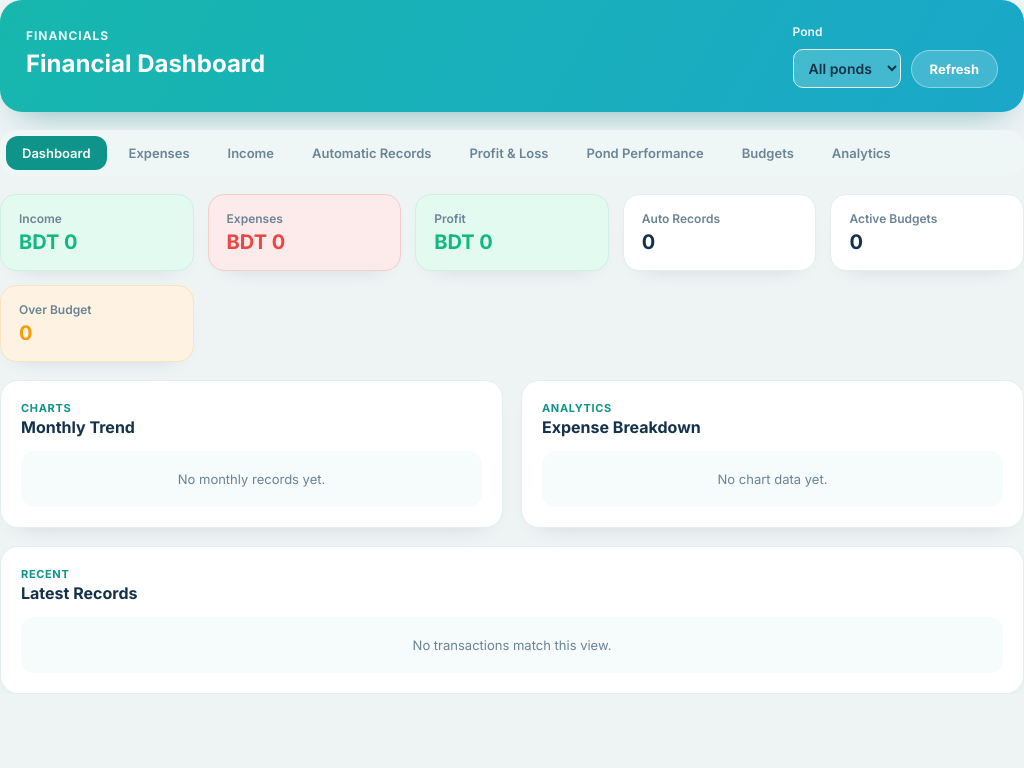
Test case: financials integration flow › displays a save error when the transaction service fails
The image size is (1024, 768).
Check: the heading "Financial Dashboard" is shown, box x1=26 y1=49 x2=265 y2=78
Click the button "Expenses": (159, 153) x1=113 y1=136 x2=206 y2=170
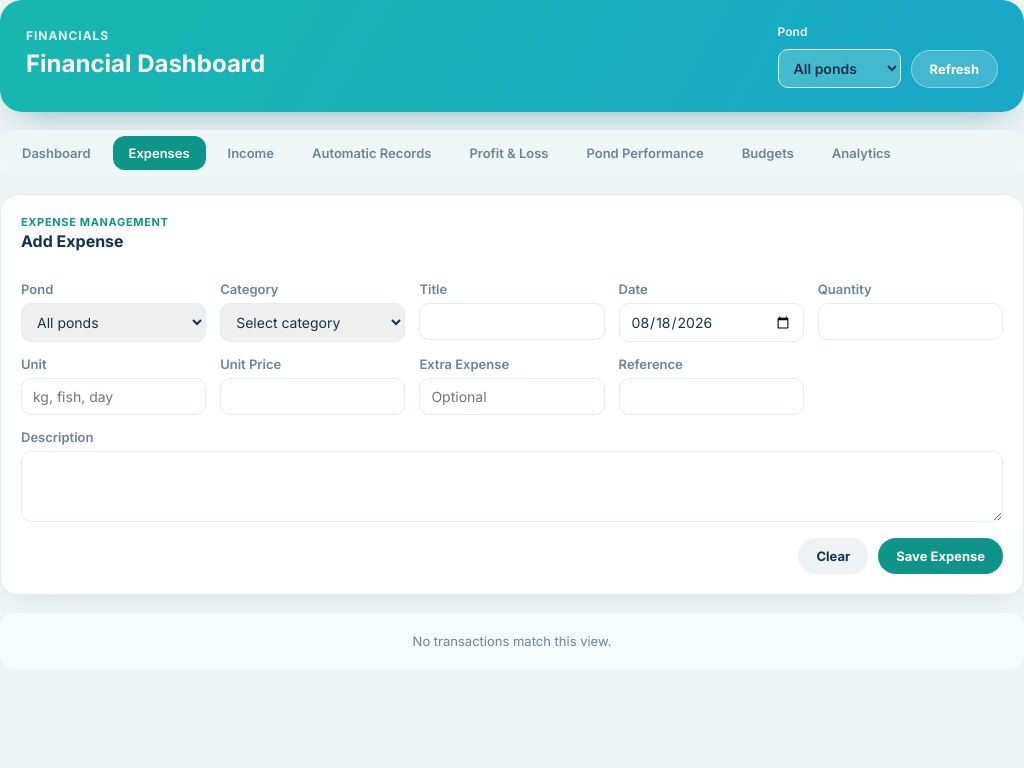
Select "Feed" in the dropdown labelled "Category": (313, 322) x1=220 y1=303 x2=405 y2=342
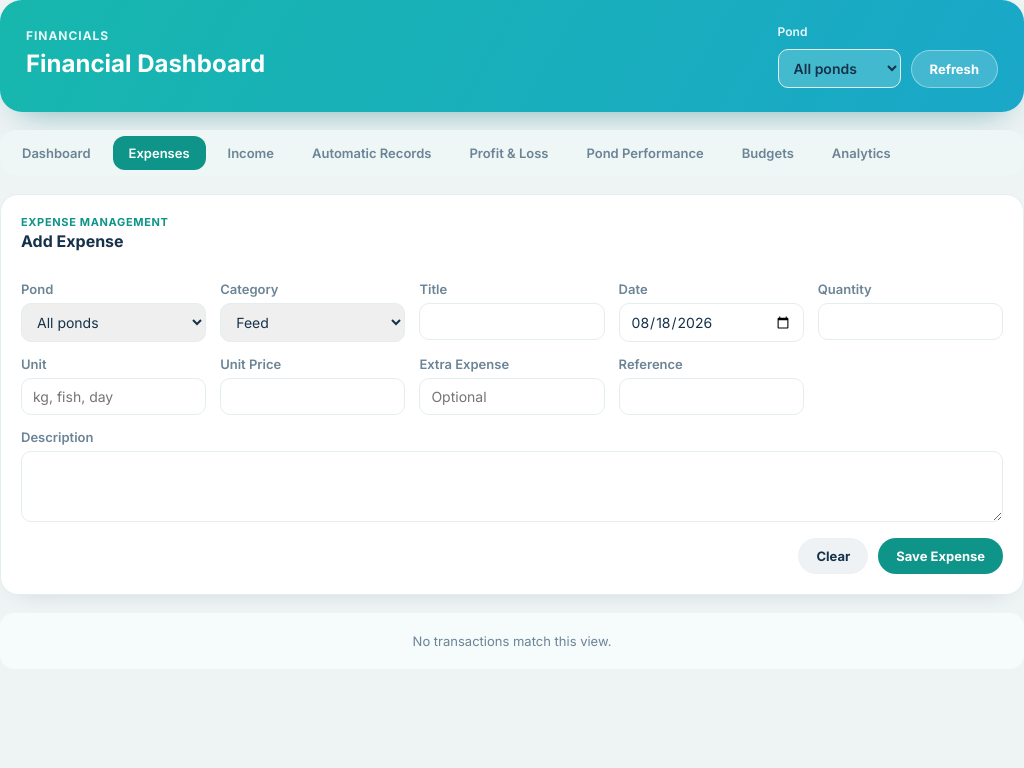
In the field labelled "Title": (512, 322) x1=419 y1=303 x2=605 y2=340, type "Failed purchase"
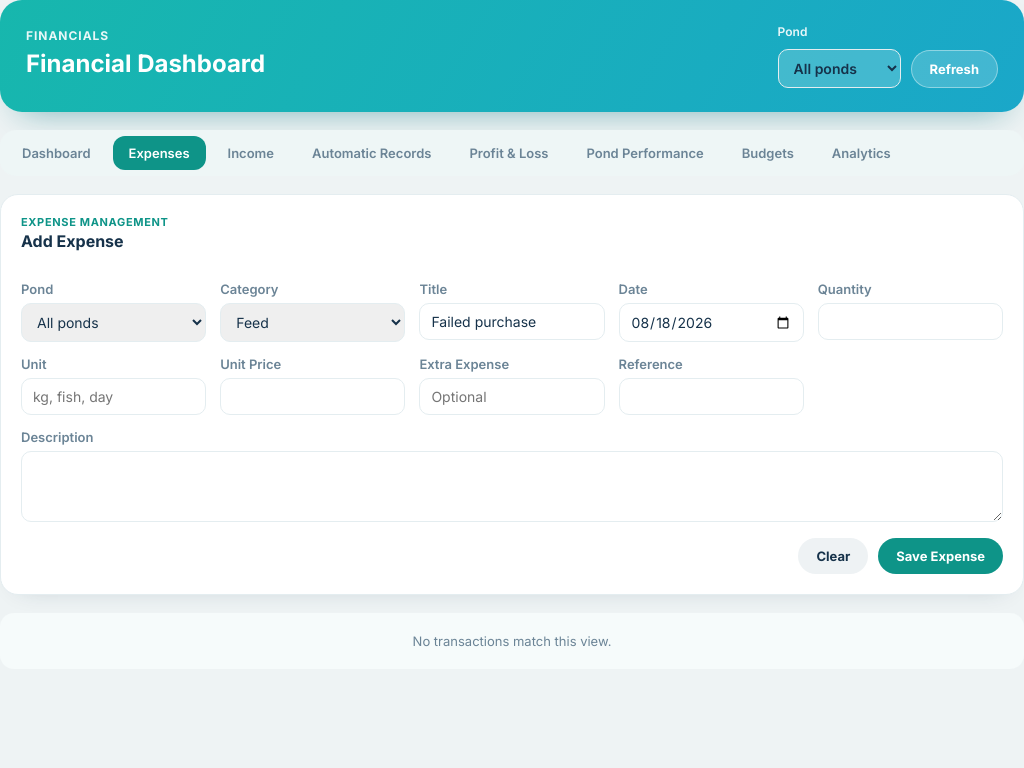
In the number field labelled "Quantity": (910, 322) x1=818 y1=303 x2=1003 y2=340, type "1"
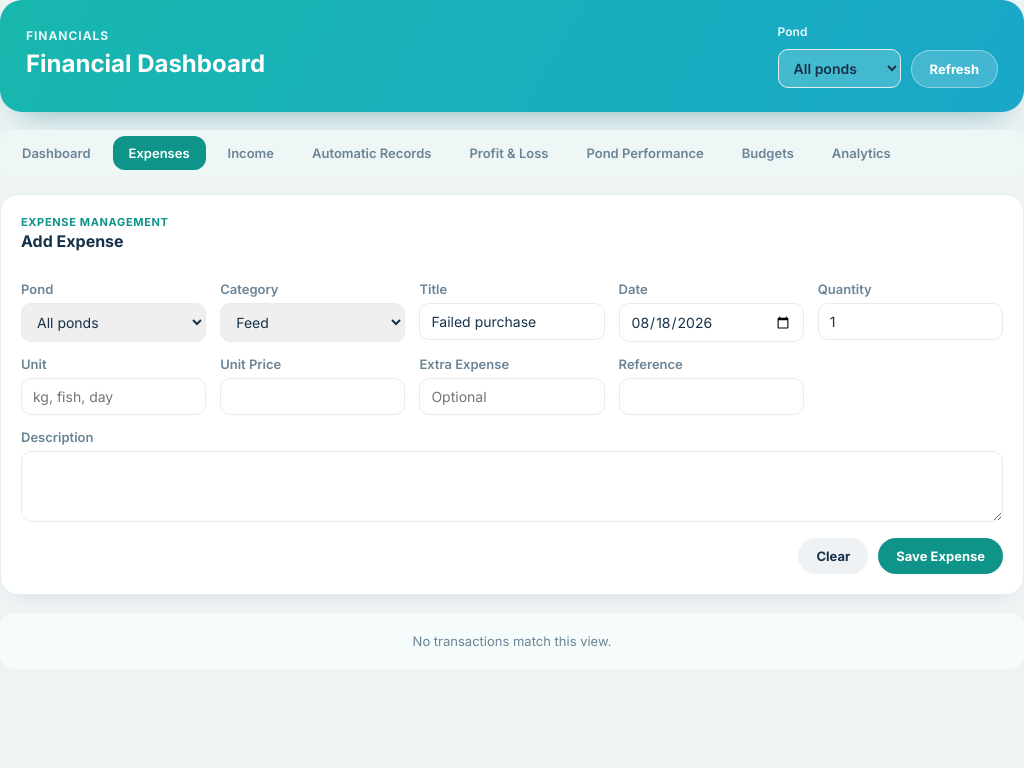
In the number field labelled "Unit Price": (313, 396) x1=220 y1=378 x2=405 y2=415, type "100"
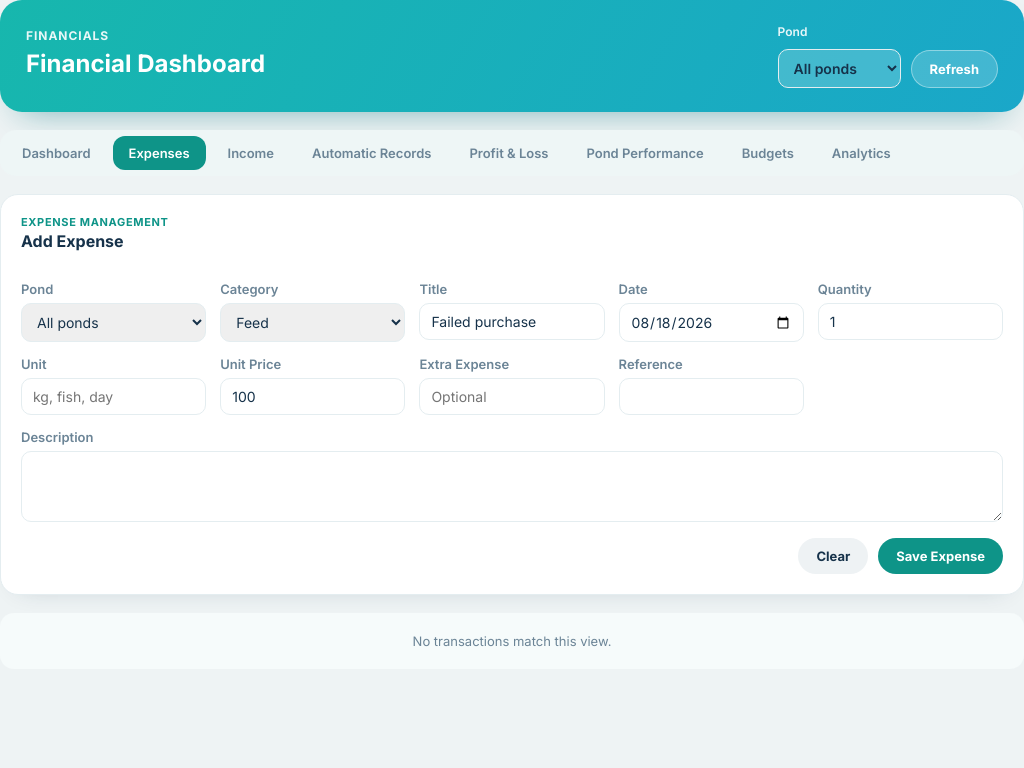
Click the button "Save Expense": (941, 556) x1=878 y1=538 x2=1003 y2=574
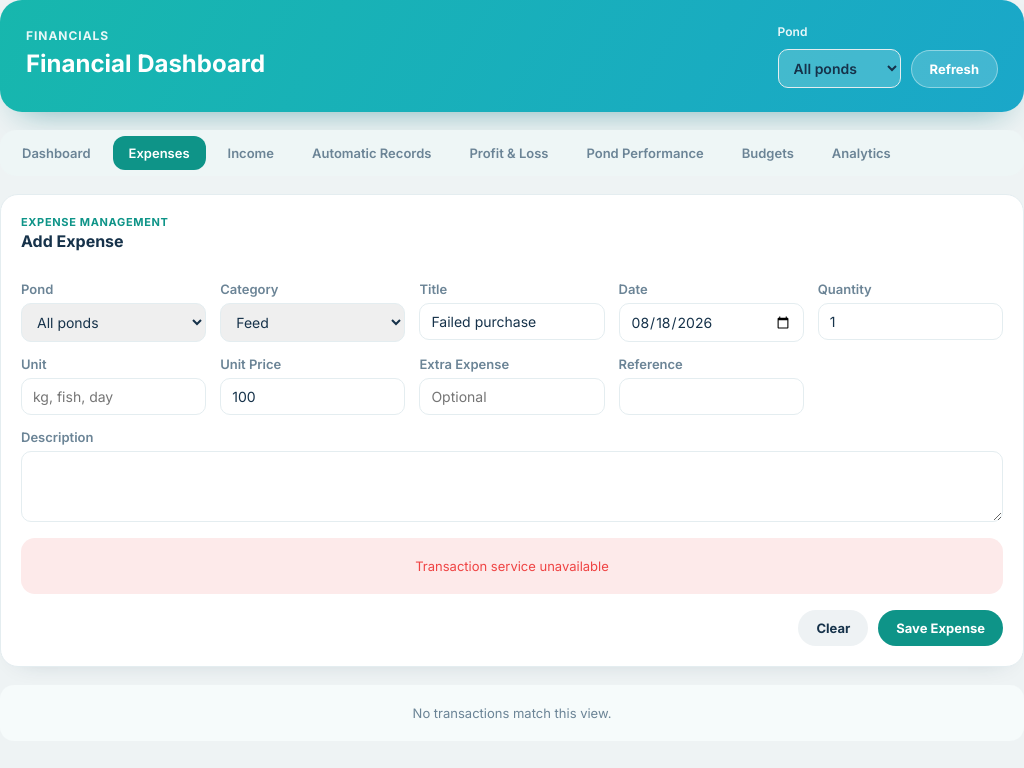
Check: the text "Transaction service unavailable" is shown, box x1=21 y1=538 x2=1003 y2=594
